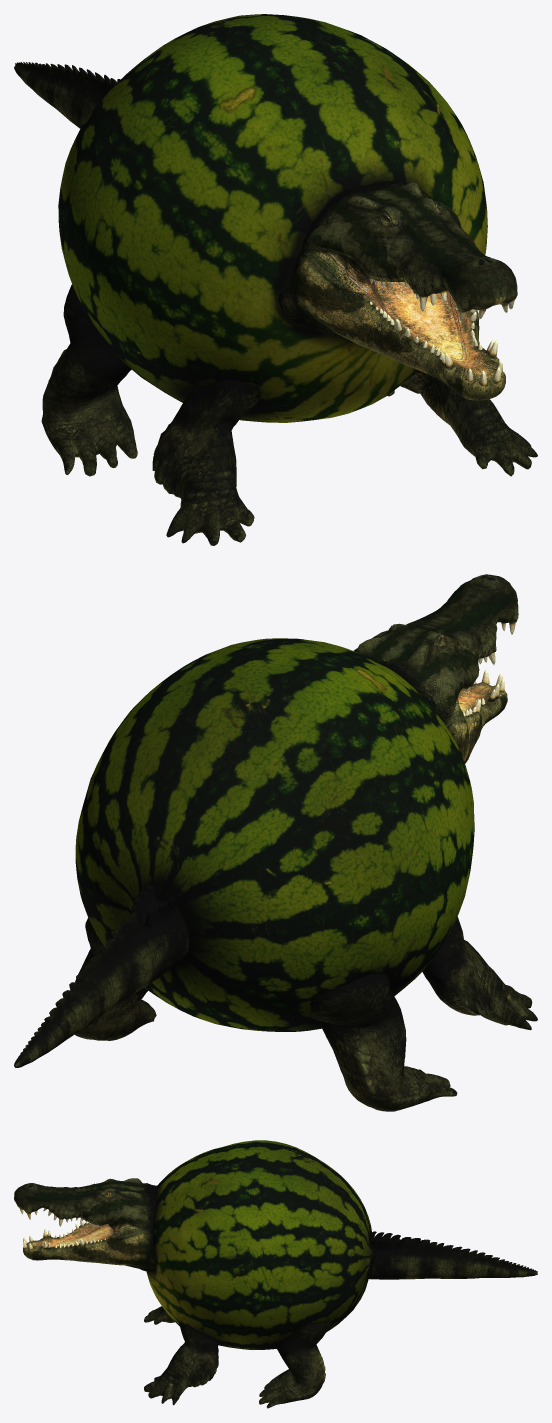
File: Glorbo.fbx
3 views of the same model, one above another, from view 1: azimuth 30°, elevation 25°; view 2: azimuth 150°, elevation 25°; view 3: azimuth 270°, elevation 25° (orthographic). The views are drawn at different scales.
Visible parts, largest first — view 1: Cube; view 2: Cube; view 3: Cube.
Boxes of the visible parts, left/top/right/bottom form: Cube: left=14, top=14, right=537, bottom=545; Cube: left=14, top=574, right=537, bottom=1111; Cube: left=14, top=1140, right=537, bottom=1408.
Bounding box in the file's own units: 276 × 272 × 615.
